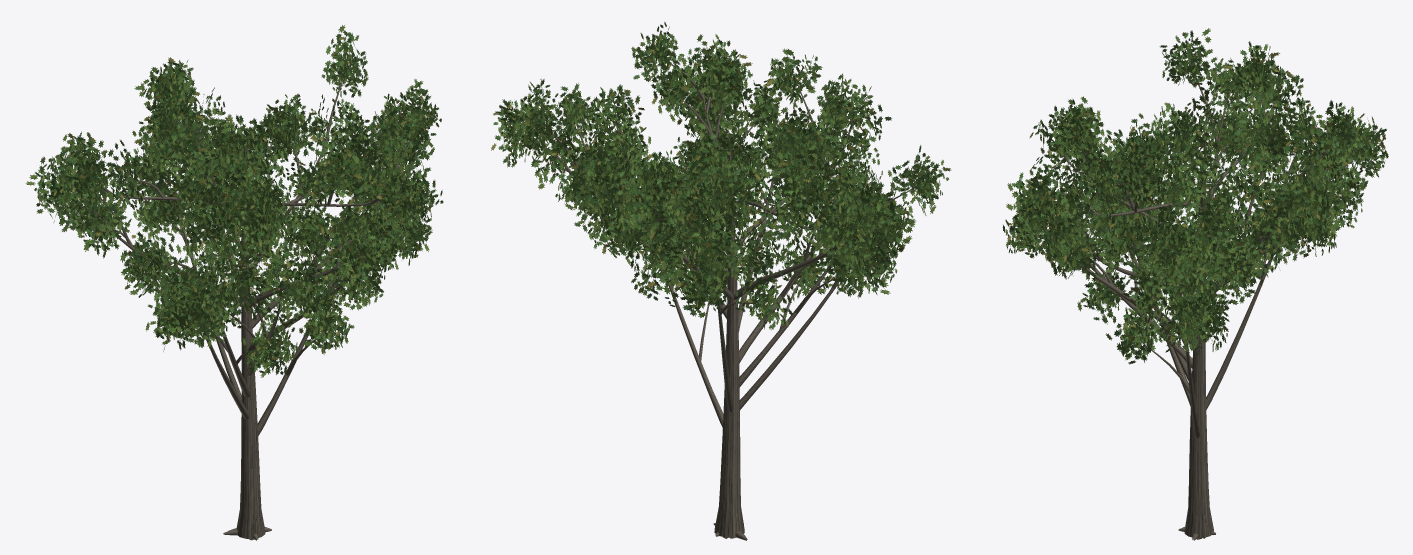
Rendered from red_maple_LOD0.glb.
3 renders of one model, left to right at view 1: azimuth 30°, elevation 25°; view 2: azimuth 150°, elevation 25°; view 3: azimuth 270°, elevation 25°, orthographic. The views are drawn at different scales.
Visible parts, largest first — view 1: red_maple_foliage, red_maple_wood; view 2: red_maple_foliage, red_maple_wood; view 3: red_maple_foliage, red_maple_wood.
Boxes of the visible parts, x1,y1,x2,y2 form: red_maple_foliage: (25,25,443,377); red_maple_wood: (72,64,412,540); red_maple_foliage: (491,22,951,330); red_maple_wood: (515,64,920,540); red_maple_foliage: (1002,28,1388,364); red_maple_wood: (1039,63,1353,540).
Bounding box in the file's own units: 15.53 × 15.8 × 12.88.
Materials: 2 (2 with a texture image).
